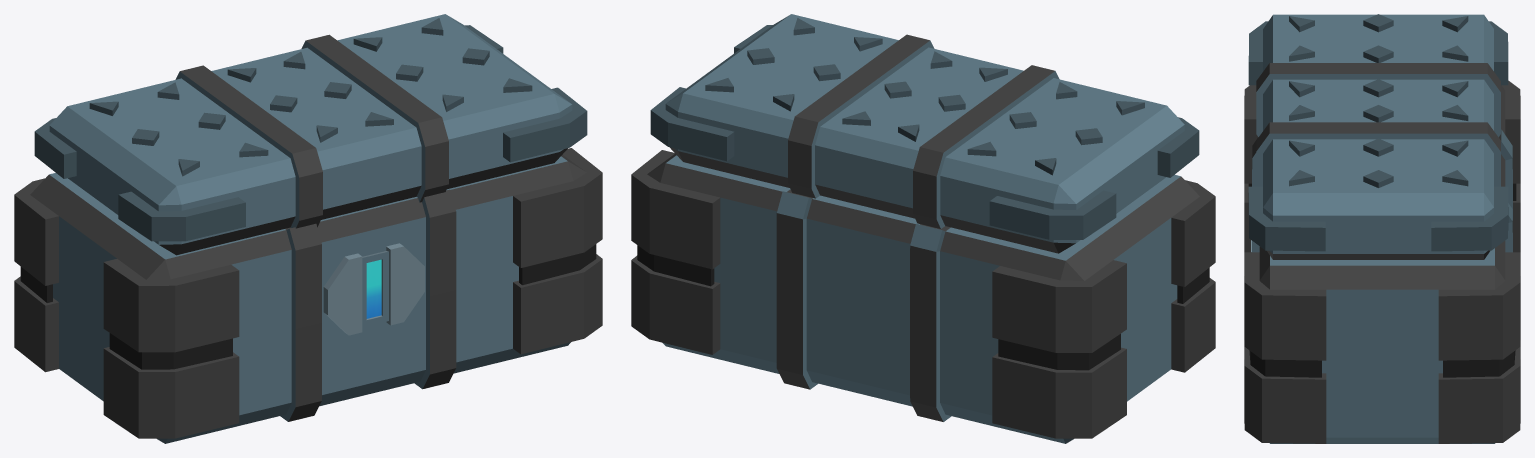
Rendered from Baul 2.fbx.
3 renders of one model, left to right at view 1: azimuth 30°, elevation 25°; view 2: azimuth 150°, elevation 25°; view 3: azimuth 270°, elevation 25°, orthographic. The views are drawn at different scales.
Visible parts, largest first — view 1: Vault.004, Vault 1.002; view 2: Vault.004, Vault 1.002; view 3: Vault 1.002, Vault.004.
Part boxes in pixels (box(x1,y1,x2,y2)): Vault.004: box(14, 148, 602, 443); Vault 1.002: box(34, 14, 587, 255); Vault.004: box(631, 150, 1215, 443); Vault 1.002: box(650, 14, 1199, 253); Vault 1.002: box(1248, 14, 1508, 259); Vault.004: box(1244, 80, 1520, 443).
Bounding box in the file's own units: 0.6878 × 0.373 × 0.3641.
